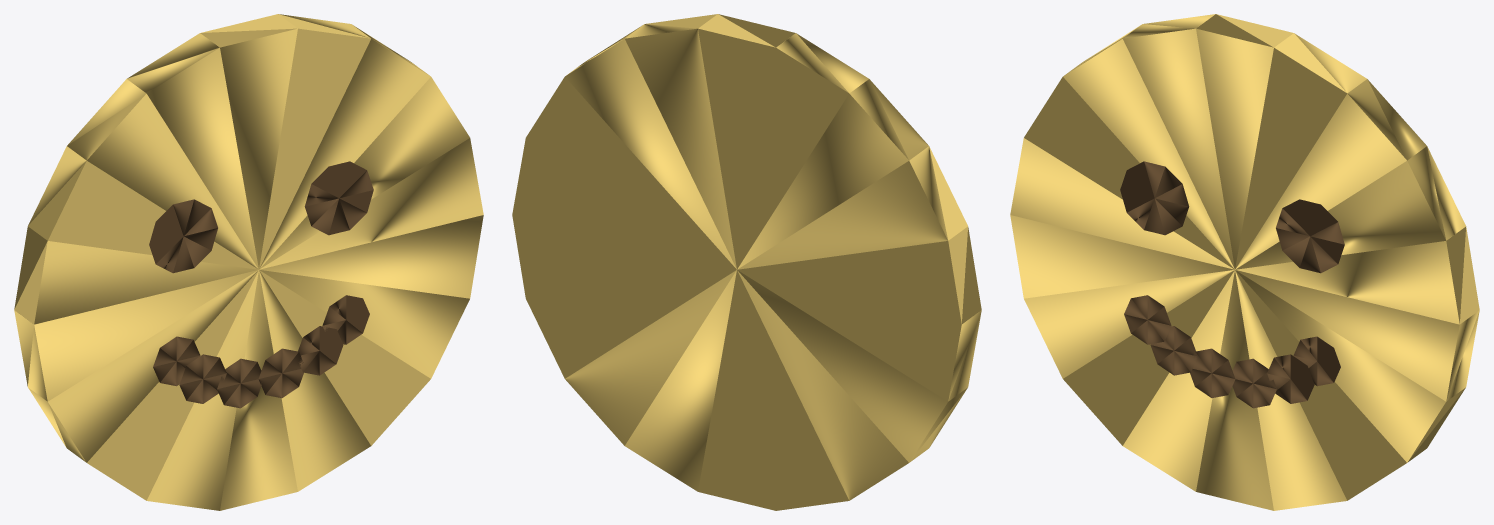
The model's file is smile.glb.
3 renders of one model, left to right at view 1: azimuth 30°, elevation 25°; view 2: azimuth 150°, elevation 25°; view 3: azimuth 330°, elevation 25°, orthographic.
Visible parts, largest first — view 1: smile-mesh; view 2: smile-mesh; view 3: smile-mesh.
Part boxes in pixels (bbox=[...]): smile-mesh: bbox=[14, 14, 483, 510]; smile-mesh: bbox=[512, 14, 981, 510]; smile-mesh: bbox=[1010, 14, 1479, 510].
Size of the model in its own units: 1.04 by 1.02 by 0.09.
